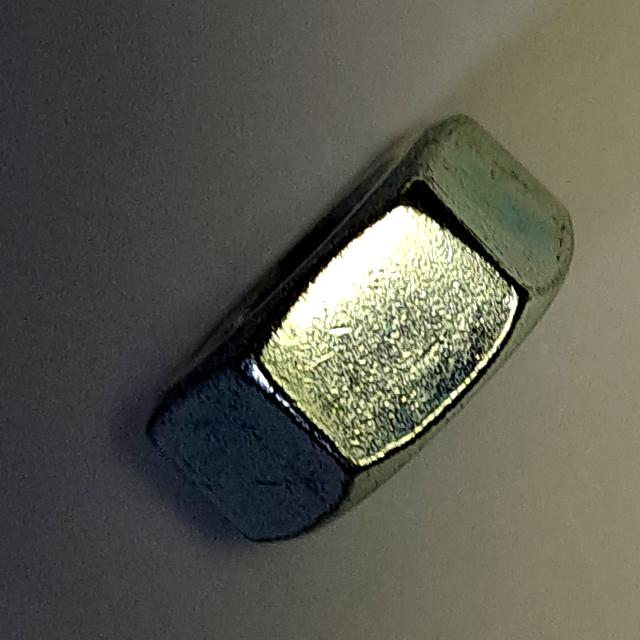Side_Excellent: (122, 100, 588, 554)
